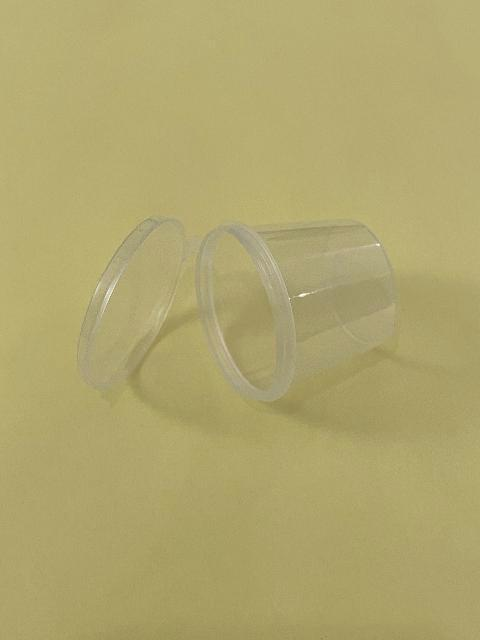plasticcontainer: (74, 213, 400, 409)
